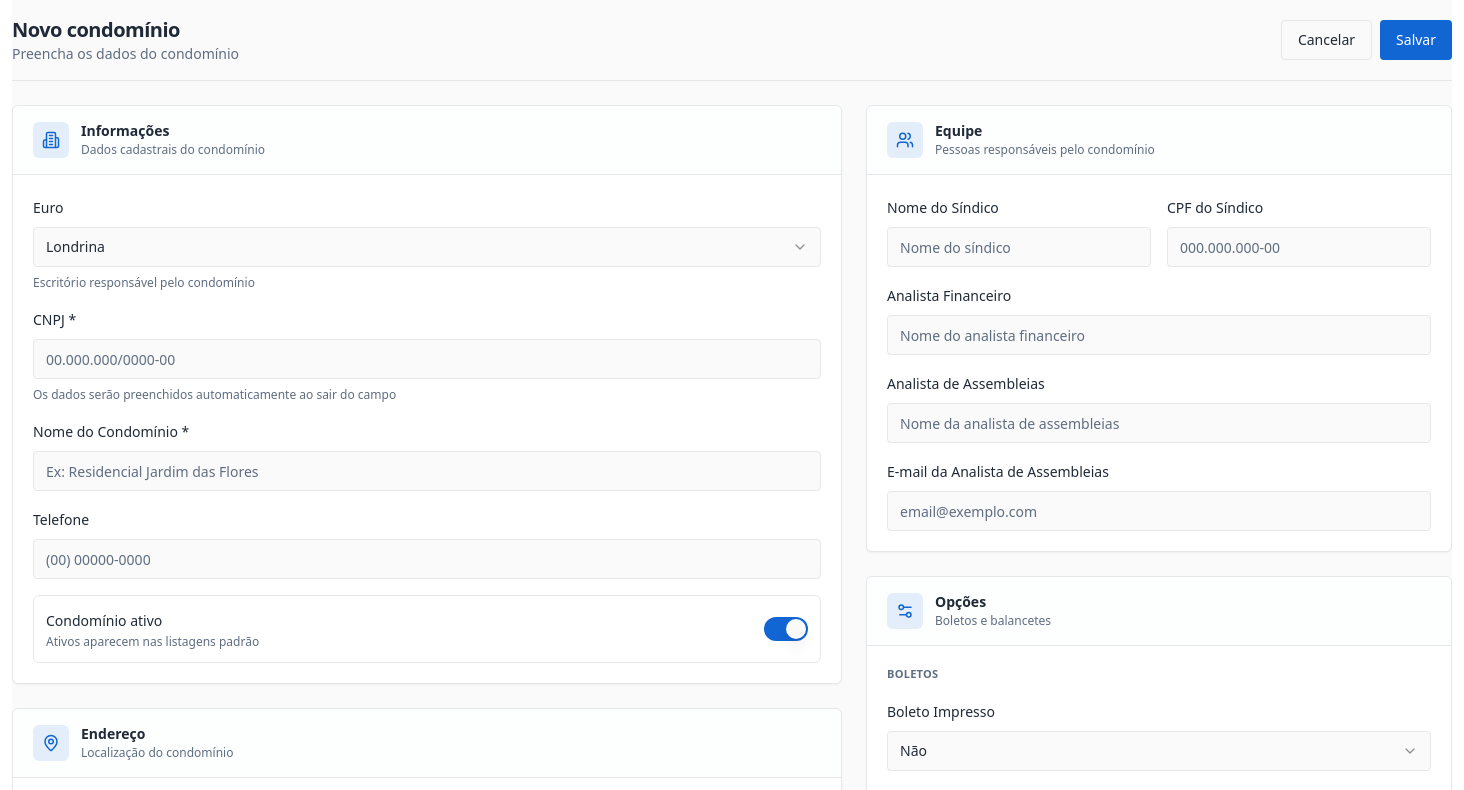
Test case: CondominiumForm › consulta de CNPJ › preenche os dados normalizados ao sair do campo CNPJ
Type "68.009.455/0001-01" into the field labelled "CNPJ *" at x=427, y=359, box [33, 339, 821, 379]
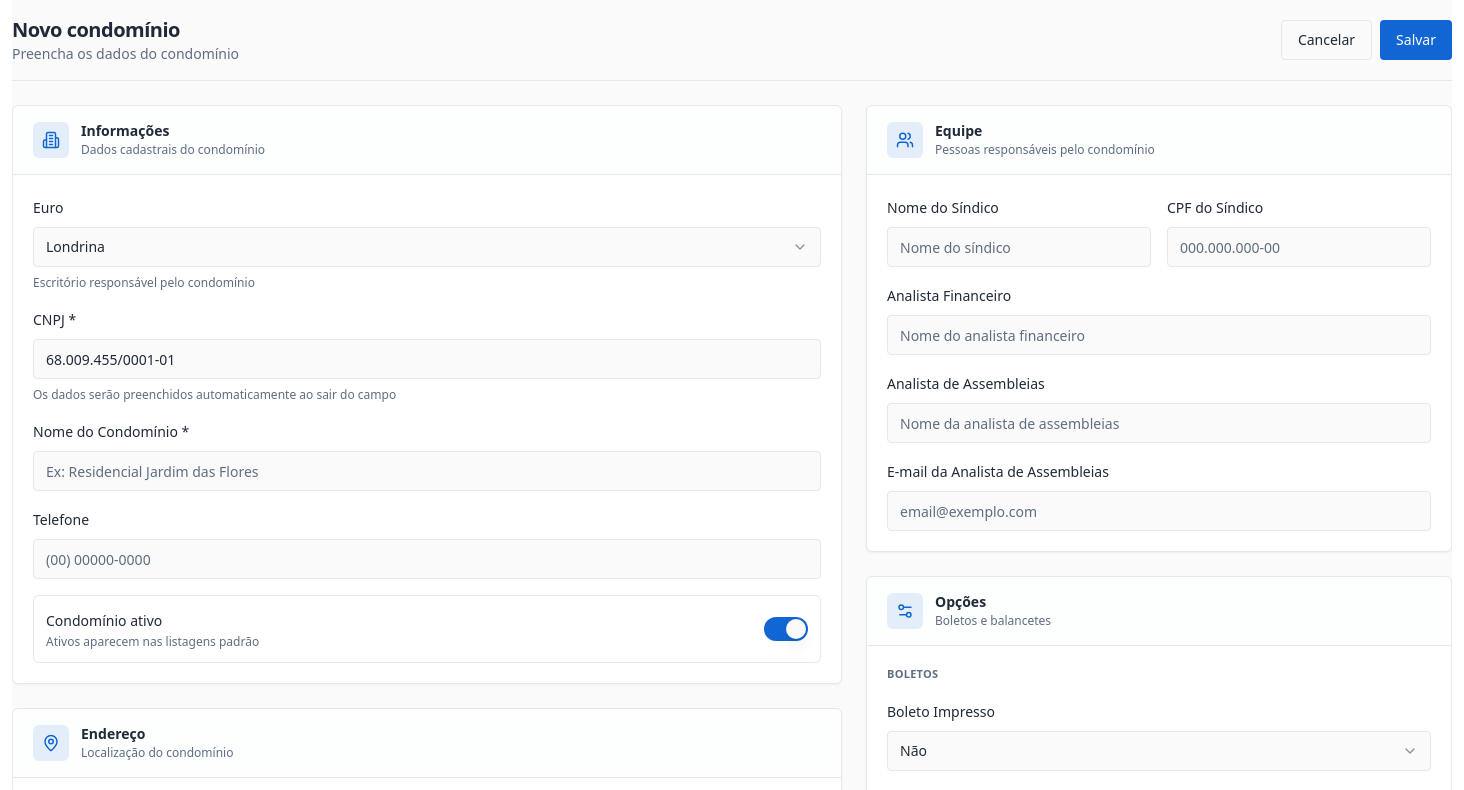
Leave the field labelled "CNPJ *", box [33, 339, 821, 379]
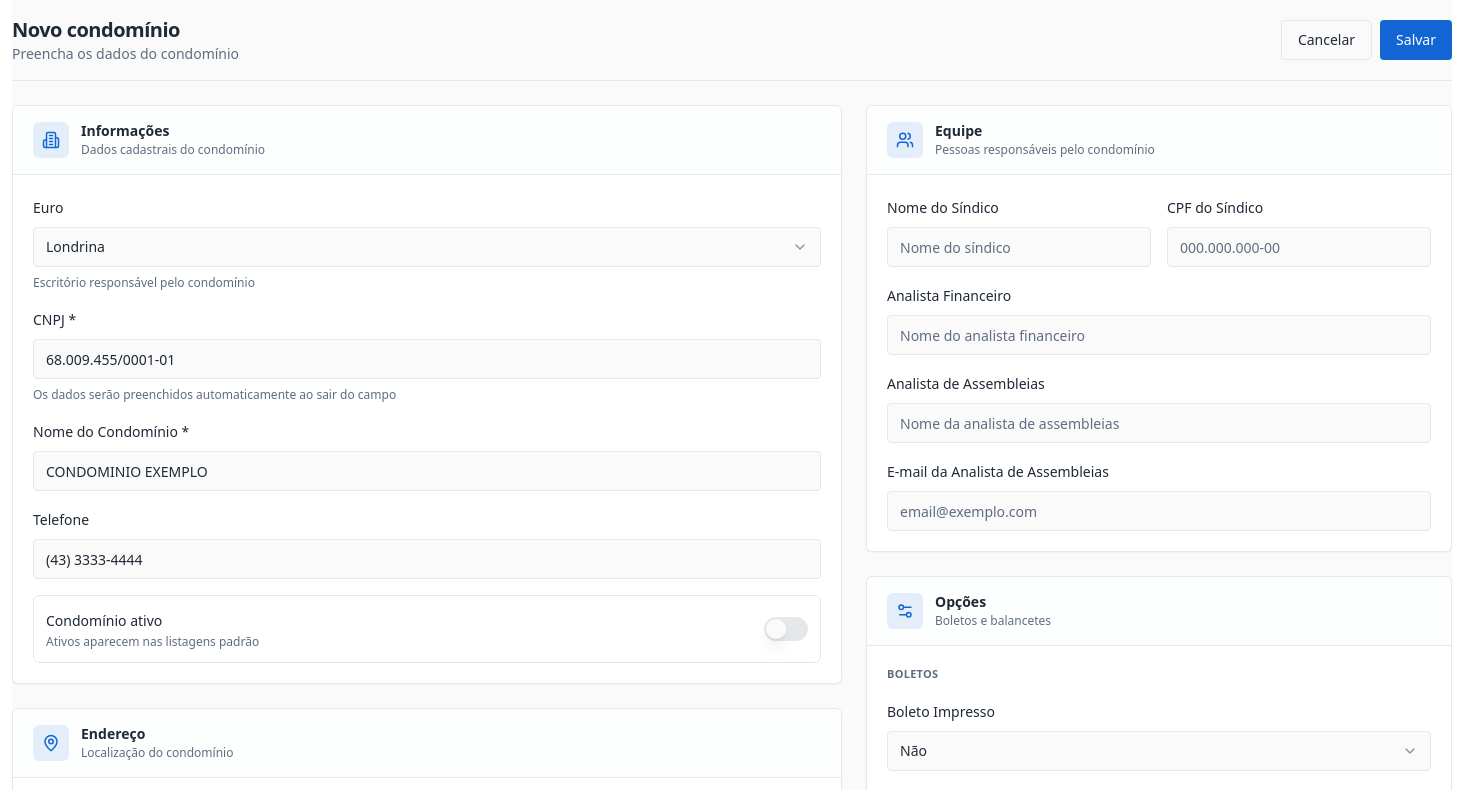
Result: the field labelled "Nome do Condomínio *" holds "CONDOMINIO EXEMPLO" at [33, 451, 821, 491]
Result: the field labelled "Telefone" holds "(43) 3333-4444" at [33, 539, 821, 579]
Result: the switch named "Condomínio ativo" is not checked at [764, 617, 808, 641]
